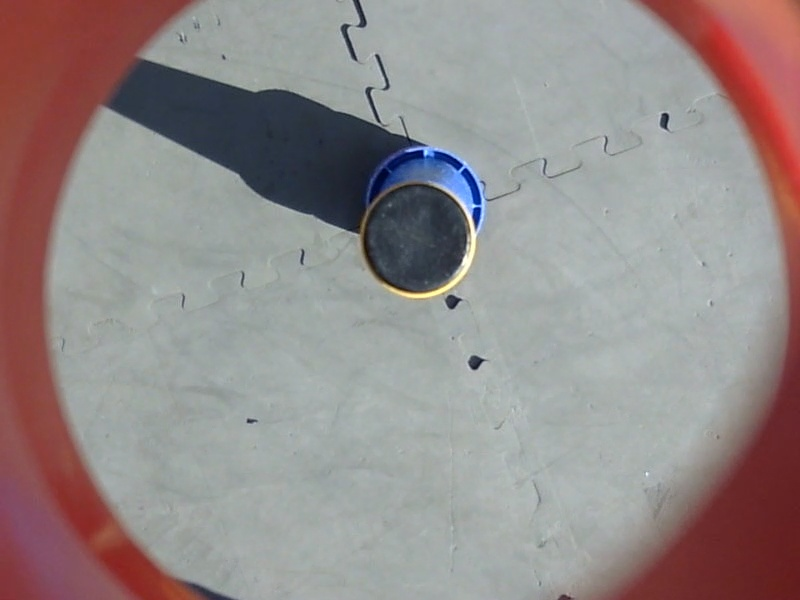tip: (354, 176, 482, 305)
